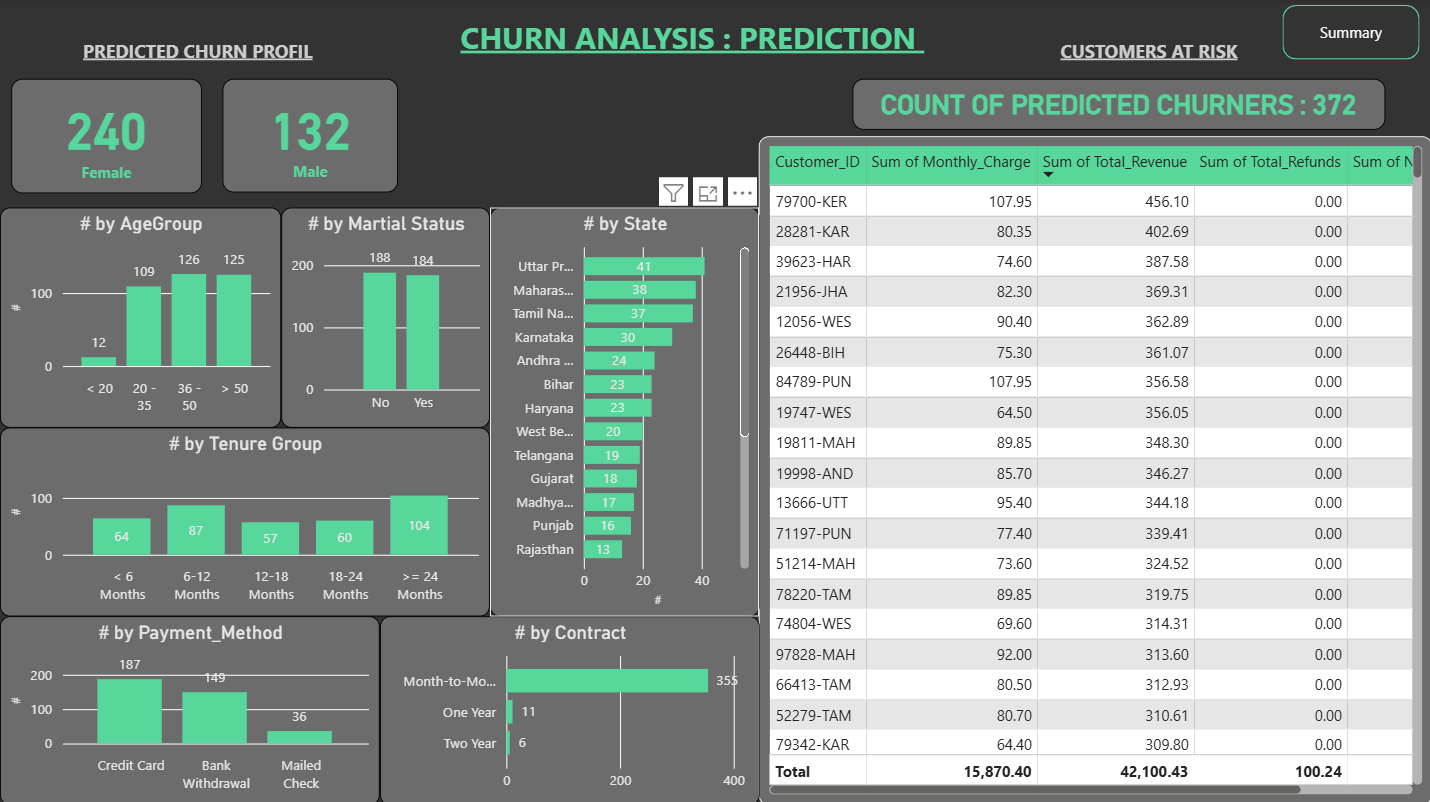

The page's visual inventory and layout, read from the dashboard file:
{"tool":"powerbi","page":{"name":"Churn Prediction","canvas":[1280,720],"ordinal":2},"visuals":[{"type":"card","fields":{"Values":["tbl_measures.Title Predicted Churners"]},"box":[762,70.5,475.7,45.5],"z":0},{"type":"tableEx","fields":{"Values":["Predicted_Churn_Customers.Customer_ID","Sum(Predicted_Churn_Customers.Monthly_Charge)","Sum(Predicted_Churn_Customers.Total_Revenue)","Sum(Predicted_Churn_Customers.Total_Refunds)","Sum(Predicted_Churn_Customers.Number_of_Referrals)"]},"box":[678.3,121.9,602,597.6],"z":1000},{"type":"card","fields":{"Values":["tbl_measures.Count Predicted Churner"]},"box":[10.3,70.5,170.3,102.8],"z":2000},{"type":"card","fields":{"Values":["tbl_measures.Count Predicted Churner"]},"box":[198.2,70.5,157.1,101.3],"z":3000},{"type":"columnChart","fields":{"Y":["CountNonNull(Predicted_Churn_Customers.Customer_ID)"],"Category":["mapping_ageGrp.AgeGroup"]},"box":[0,185,251.1,196.7],"z":4000},{"type":"columnChart","fields":{"Y":["CountNonNull(Predicted_Churn_Customers.Customer_ID)"],"Category":["Predicted_Churn_Customers.Married"]},"box":[251.1,185,186.5,196.7],"z":5000},{"type":"columnChart","fields":{"Y":["CountNonNull(Predicted_Churn_Customers.Customer_ID)"],"Category":["mapping_tenureGrp.Tenure Group "]},"box":[0,381.7,437.5,168.8],"z":6000},{"type":"columnChart","fields":{"Y":["CountNonNull(Predicted_Churn_Customers.Customer_ID)"],"Category":["Predicted_Churn_Customers.Payment_Method"]},"box":[0,550.6,339.2,168.8],"z":7000},{"type":"clusteredBarChart","fields":{"Y":["CountNonNull(Predicted_Churn_Customers.Customer_ID)"],"Category":["Predicted_Churn_Customers.Contract"]},"box":[339.2,550.6,339.2,168.8],"z":8000},{"type":"clusteredBarChart","fields":{"Y":["CountNonNull(Predicted_Churn_Customers.Customer_ID)"],"Category":["Predicted_Churn_Customers.State"]},"box":[437.5,185,240.8,365.6],"z":9000},{"type":"textbox","box":[406.7,10.3,441.9,47],"z":10000},{"type":"textbox","box":[942.6,29.4,187.9,41.1],"z":11000},{"type":"textbox","box":[69,29.4,299.5,38.2],"z":12000},{"type":"shape","box":[1146.1,4.4,122.4,48.7],"z":13000}]}

Visuals, with their boxes in screenshot pixels (x1, y1, x2, y2), scaled from the page's 1280x720 canvas onto the 1430x802 screenshot:
card - tbl_measures.Title Predicted Churners: l=851, t=79, r=1383, b=129
tableEx - Predicted_Churn_Customers.Customer_ID x Sum(Predicted_Churn_Customers.Monthly_Charge): l=758, t=136, r=1429, b=801
card - tbl_measures.Count Predicted Churner: l=12, t=79, r=202, b=193
card - tbl_measures.Count Predicted Churner: l=221, t=79, r=397, b=191
columnChart - CountNonNull(Predicted_Churn_Customers.Customer_ID) x mapping_ageGrp.AgeGroup: l=0, t=206, r=281, b=425
columnChart - CountNonNull(Predicted_Churn_Customers.Customer_ID) x Predicted_Churn_Customers.Married: l=281, t=206, r=489, b=425
columnChart - CountNonNull(Predicted_Churn_Customers.Customer_ID) x mapping_tenureGrp.Tenure Group : l=0, t=425, r=489, b=613
columnChart - CountNonNull(Predicted_Churn_Customers.Customer_ID) x Predicted_Churn_Customers.Payment_Method: l=0, t=613, r=379, b=801
clusteredBarChart - CountNonNull(Predicted_Churn_Customers.Customer_ID) x Predicted_Churn_Customers.Contract: l=379, t=613, r=758, b=801
clusteredBarChart - CountNonNull(Predicted_Churn_Customers.Customer_ID) x Predicted_Churn_Customers.State: l=489, t=206, r=758, b=613
textbox: l=454, t=11, r=948, b=64
textbox: l=1053, t=33, r=1263, b=79
textbox: l=77, t=33, r=412, b=75
shape: l=1280, t=5, r=1417, b=59
